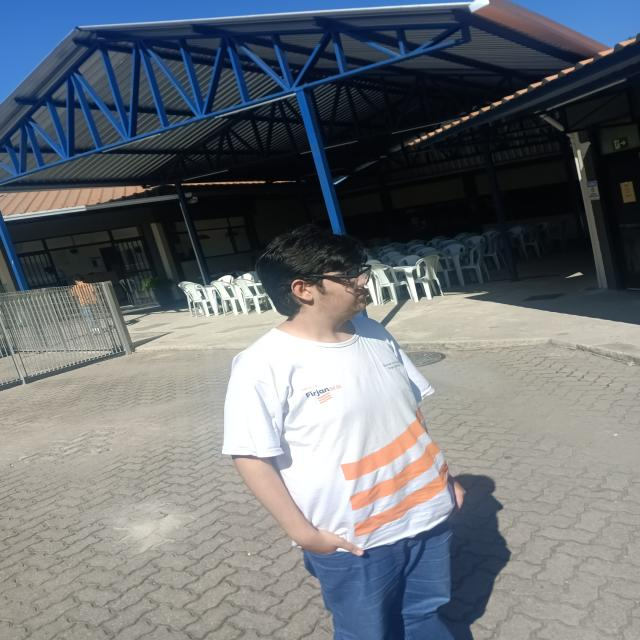oculos-epi: (306, 265, 372, 288)
